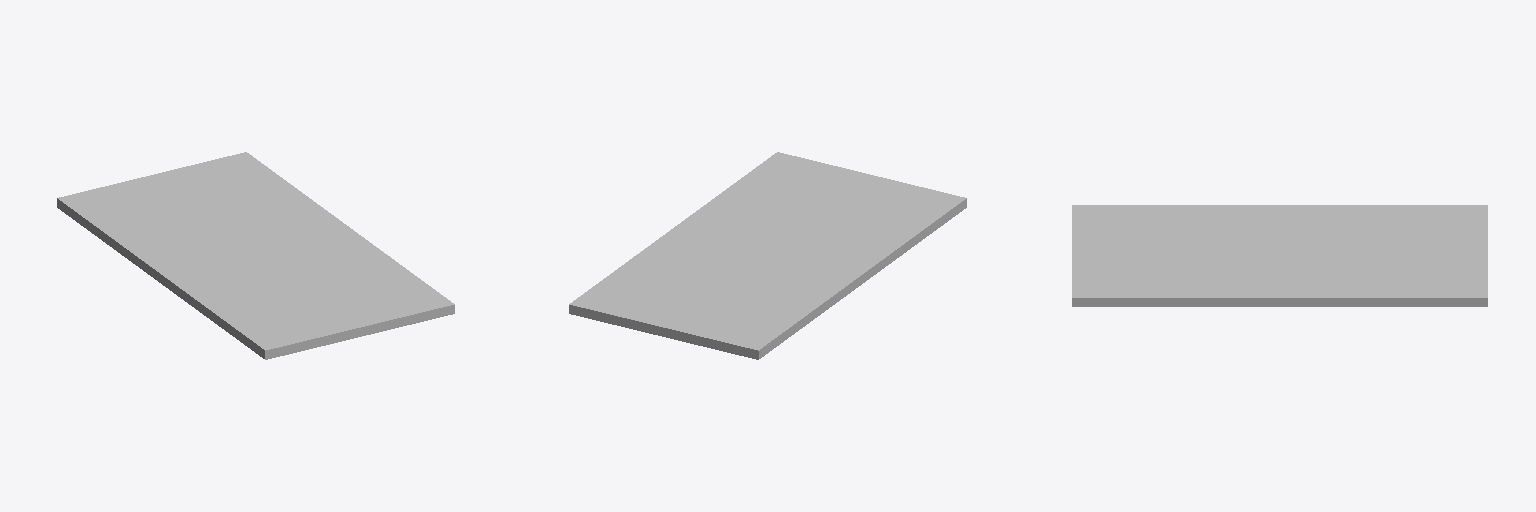
Rendered from grass6.obj.
3 views of the same model, side by side, from view 1: azimuth 30°, elevation 25°; view 2: azimuth 150°, elevation 25°; view 3: azimuth 270°, elevation 25° (orthographic).
Parts seen in each view (by area): view 1: object 1; view 2: object 1; view 3: object 1.
Boxes of the visible parts, x1,y1,x2,y2 form: object 1: [57, 152, 454, 359]; object 1: [569, 152, 966, 359]; object 1: [1072, 205, 1487, 306].
Size of the model in its own units: 2.1 by 0.1 by 4.